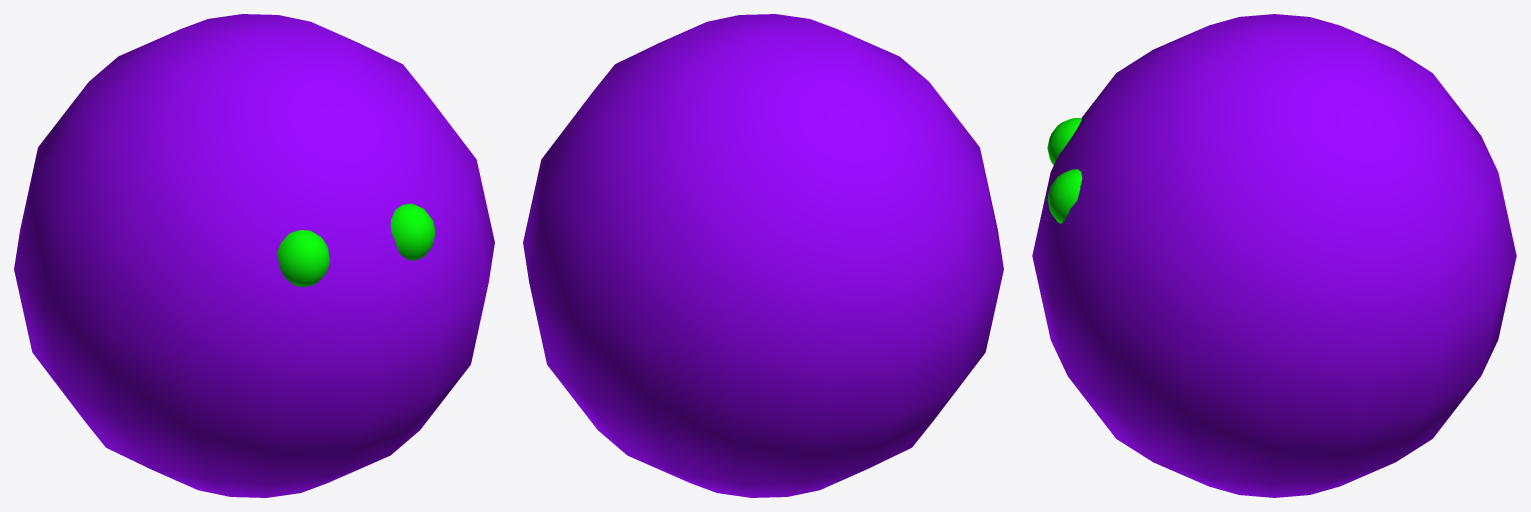
The model's file is Robot_Face.FBX.
3 renders of one model, left to right at view 1: azimuth 30°, elevation 25°; view 2: azimuth 150°, elevation 25°; view 3: azimuth 270°, elevation 25°, orthographic.
Parts seen in each view (by area): view 1: Head, RightEye, LeftEye; view 2: Head; view 3: Head, LeftEye, RightEye.
Part boxes in pixels (left/top/right/bottom): Head: left=14, top=14, right=494, bottom=497; RightEye: left=276, top=230, right=329, bottom=287; LeftEye: left=390, top=203, right=435, bottom=260; Head: left=523, top=14, right=1003, bottom=497; Head: left=1032, top=14, right=1516, bottom=497; LeftEye: left=1047, top=169, right=1082, bottom=223; RightEye: left=1047, top=118, right=1081, bottom=165.
Bounding box in the file's own units: 1.6 × 1.6 × 1.6.
